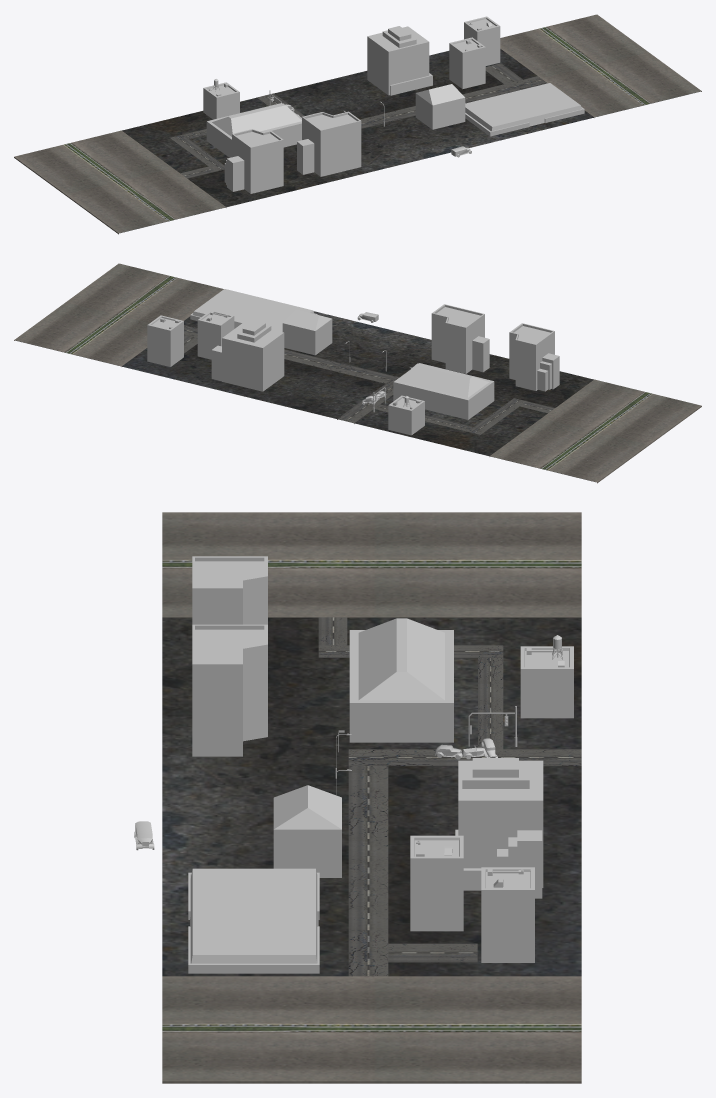
The model's file is Block_12.fbx.
3 views of the same model, one above another, from view 1: azimuth 30°, elevation 25°; view 2: azimuth 150°, elevation 25°; view 3: azimuth 270°, elevation 25° (orthographic). The views are drawn at different scales.
Visible parts, largest first — view 1: pasted__polySurface1337; view 2: pasted__polySurface1337; view 3: pasted__polySurface1337.
Part boxes in pixels (<box>): pasted__polySurface1337: <box>14,14,701,234</box>; pasted__polySurface1337: <box>14,263,701,483</box>; pasted__polySurface1337: <box>134,512,581,1083</box>.
Bounding box in the file's own units: 459 × 152 × 40.04.
